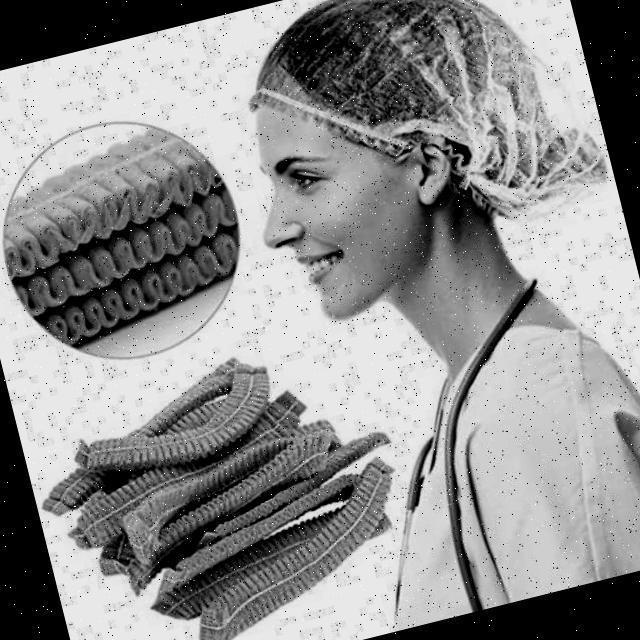no_hairnet: (276, 204, 426, 304)
